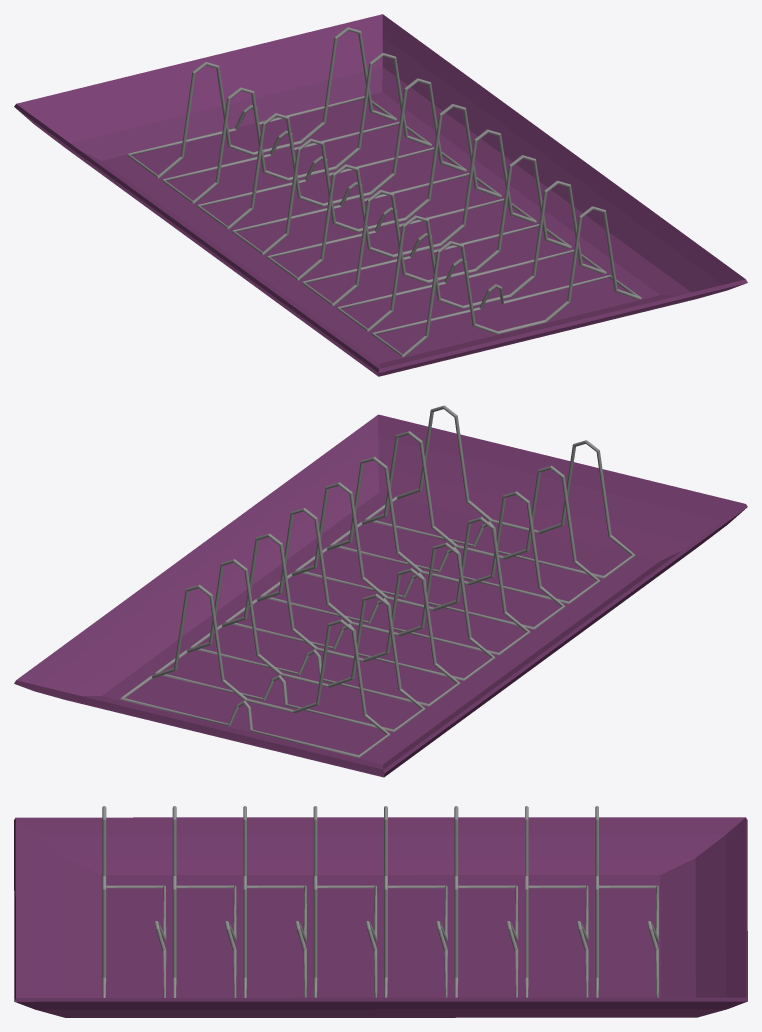
Rendered from range assiete.fbx.
The picture shows the model from 3 angles, top to bottom: view 1: azimuth 30°, elevation 25°; view 2: azimuth 150°, elevation 25°; view 3: azimuth 270°, elevation 25°; orthographic projection.
Visible parts, largest first — view 1: Plane; view 2: Plane; view 3: Plane.
Part boxes in pixels (left/top/right/bottom): Plane: left=14, top=14, right=747, bottom=376; Plane: left=14, top=405, right=747, bottom=777; Plane: left=14, top=806, right=747, bottom=1017.
Bounding box in the file's own units: 30.15 × 8.4 × 51.41.
